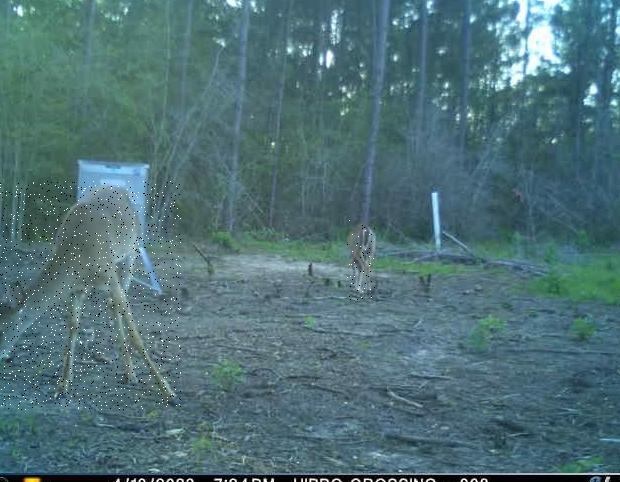Deer: (0, 181, 181, 410), (346, 220, 375, 301)
